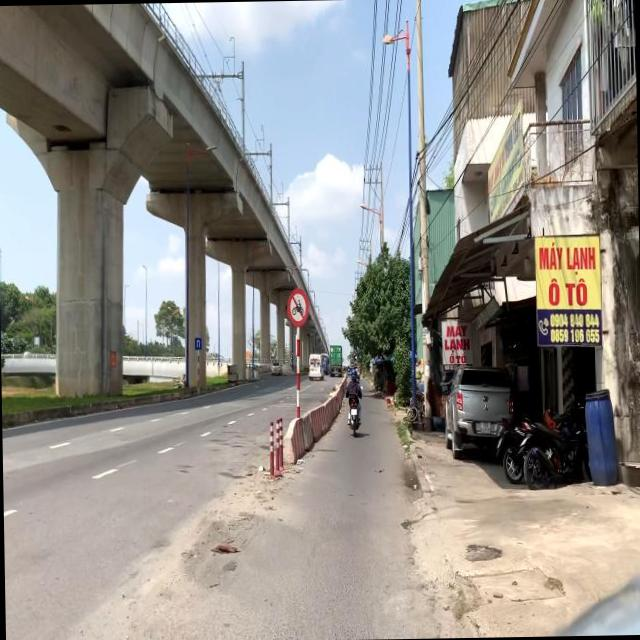P-104: (286, 284, 308, 324)
